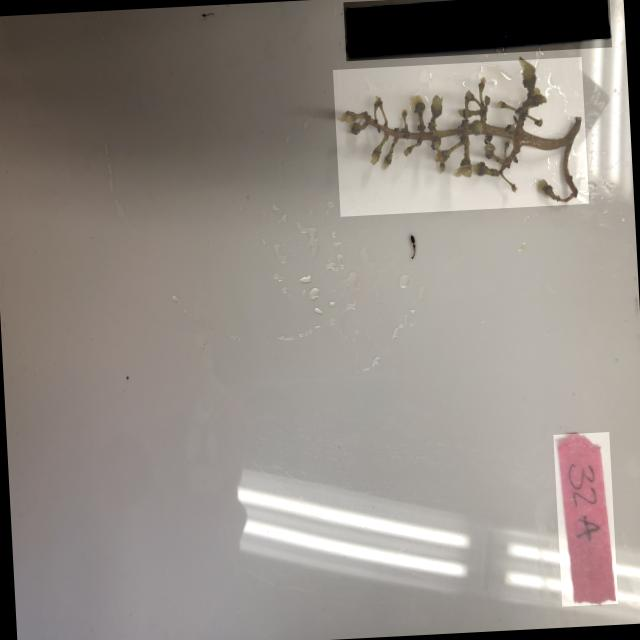index: (552, 432, 618, 607)
measure_label: (342, 0, 611, 61)
rachis_cluster: (332, 57, 588, 217)
